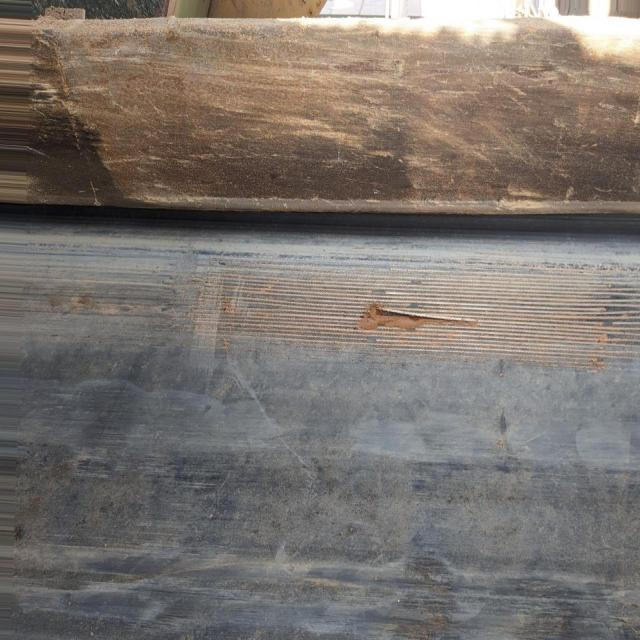impact damage: (197, 245, 608, 357)
